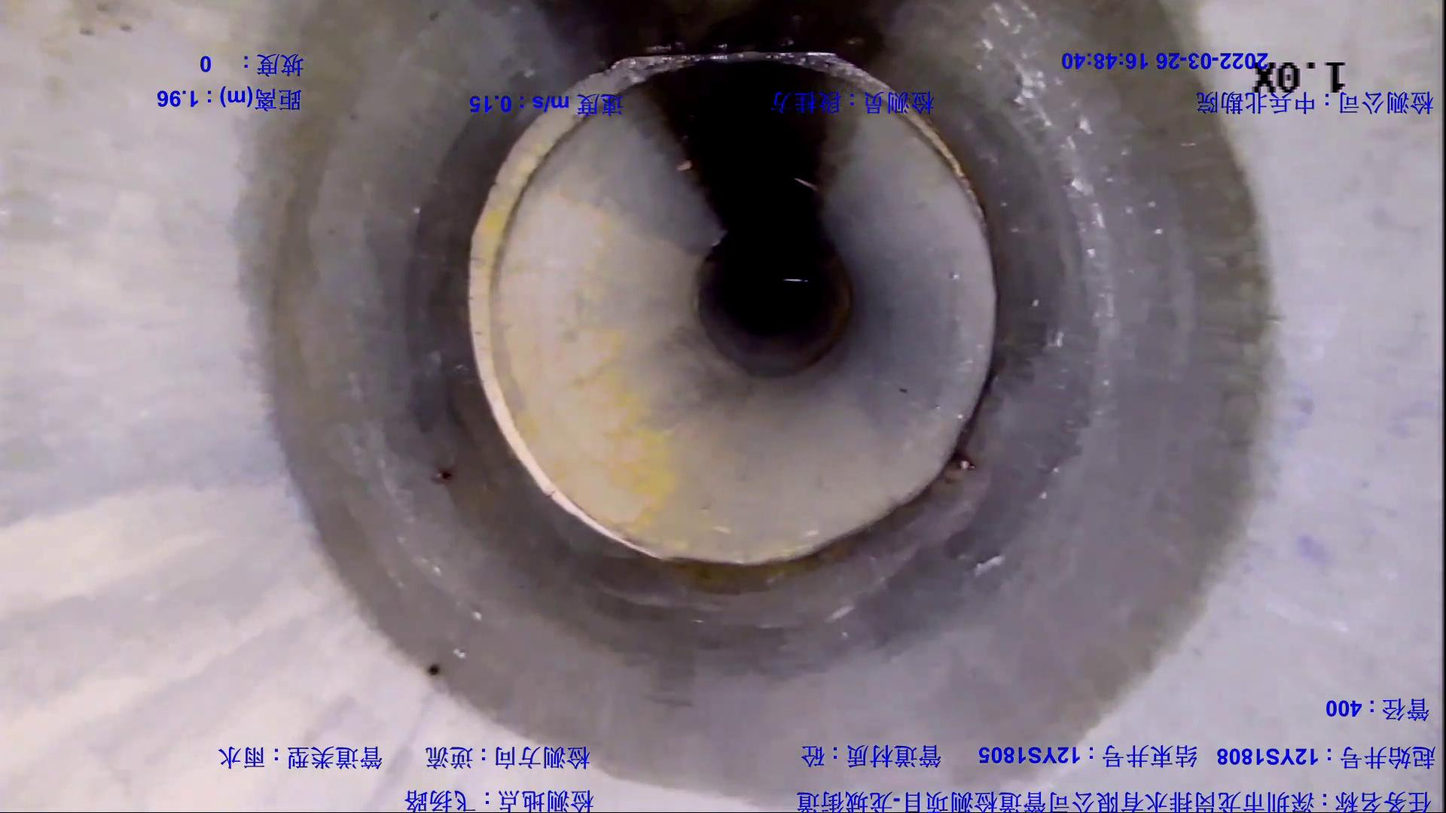CKTJ: (469, 50, 977, 556)
